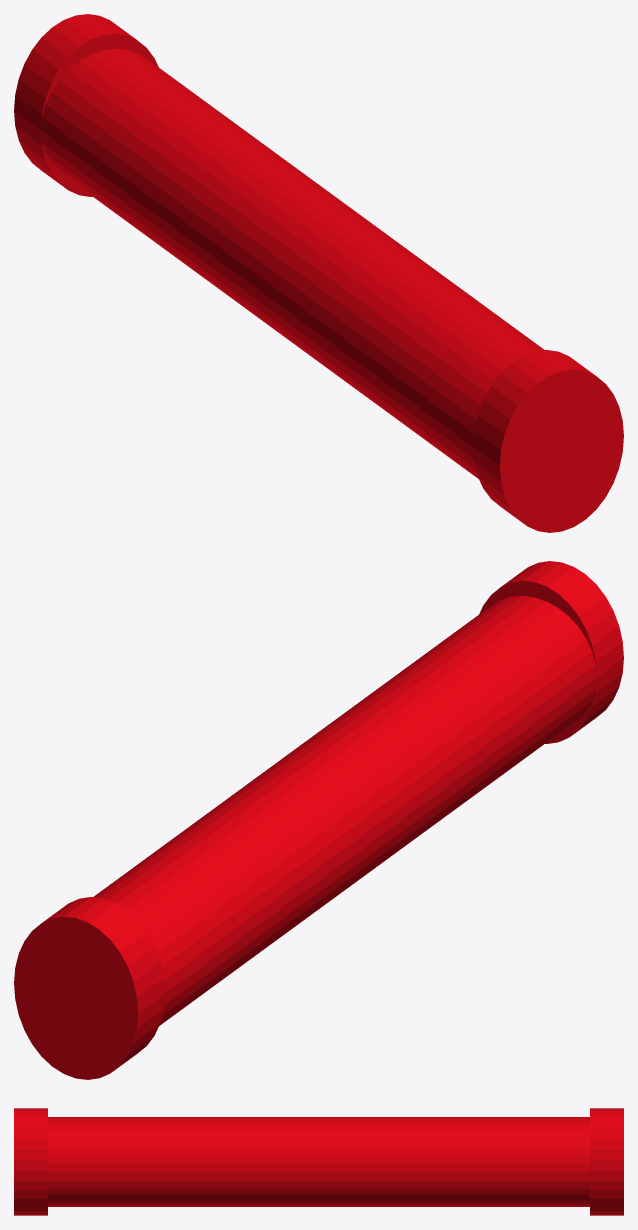
File: Escape Room Straight Pipes.fbx
3 views of the same model, one above another, from view 1: azimuth 30°, elevation 25°; view 2: azimuth 150°, elevation 25°; view 3: azimuth 270°, elevation 25° (orthographic). The views are drawn at different scales.
Visible parts, largest first — view 1: Cylinder; view 2: Cylinder; view 3: Cylinder.
Boxes of the visible parts, x1=… form: Cylinder: x1=14, y1=14, x2=623, y2=532; Cylinder: x1=14, y1=561, x2=623, y2=1079; Cylinder: x1=14, y1=1108, x2=623, y2=1215.
Size of the model in its own units: 200 by 247 by 1357.
